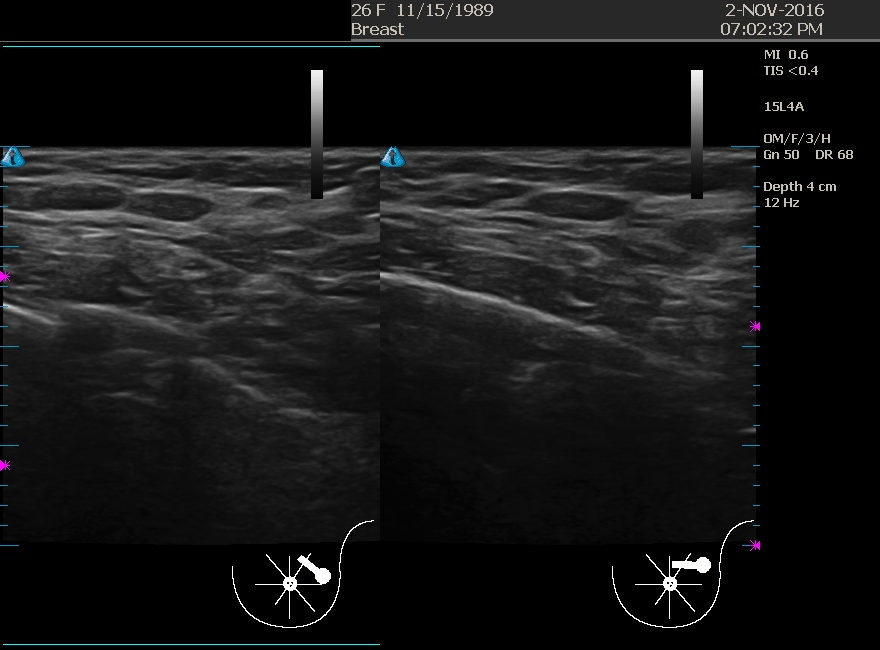BIRADS_2: (22, 173, 222, 374), (455, 177, 655, 378)
